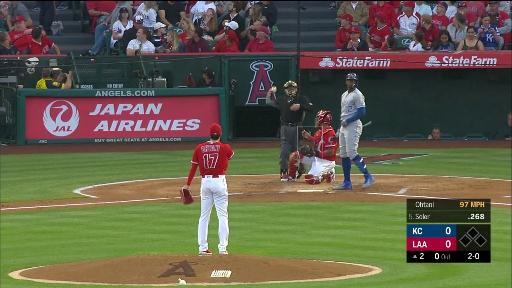pitcher: (180, 123, 235, 256)
